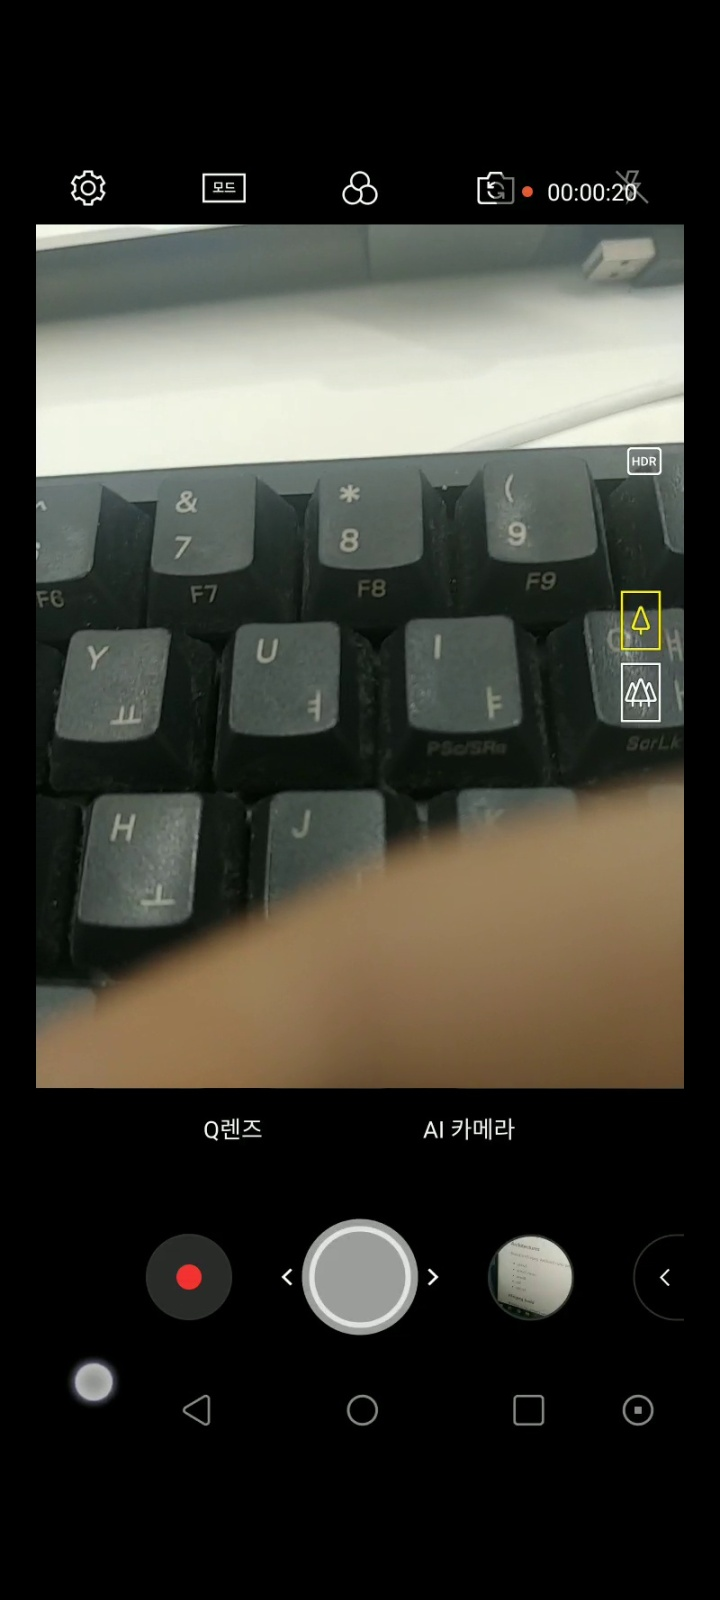Cursor: (72, 1361, 117, 1406)
